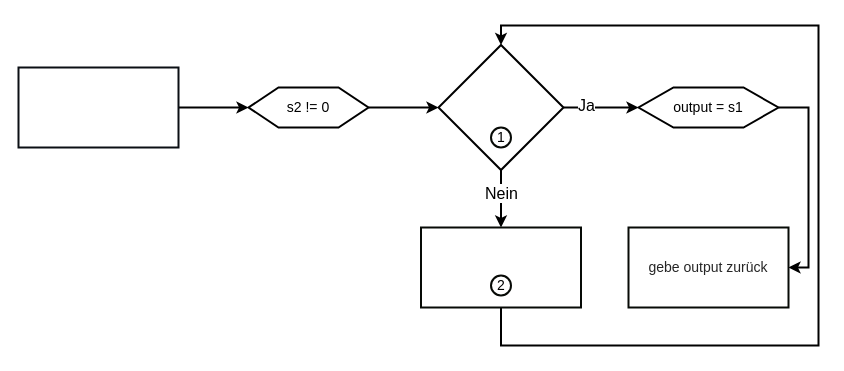
Image size: 844x371. Some labels were removed from this diagram. Here are the shapes that lost their labels. From the top down, the box of each, then its label:
(17, 66, 179, 148): mods(s1, s2, output)
(437, 44, 564, 170): lt(s1, s2)
(420, 226, 582, 308): s1 = sub(s1, s2)
